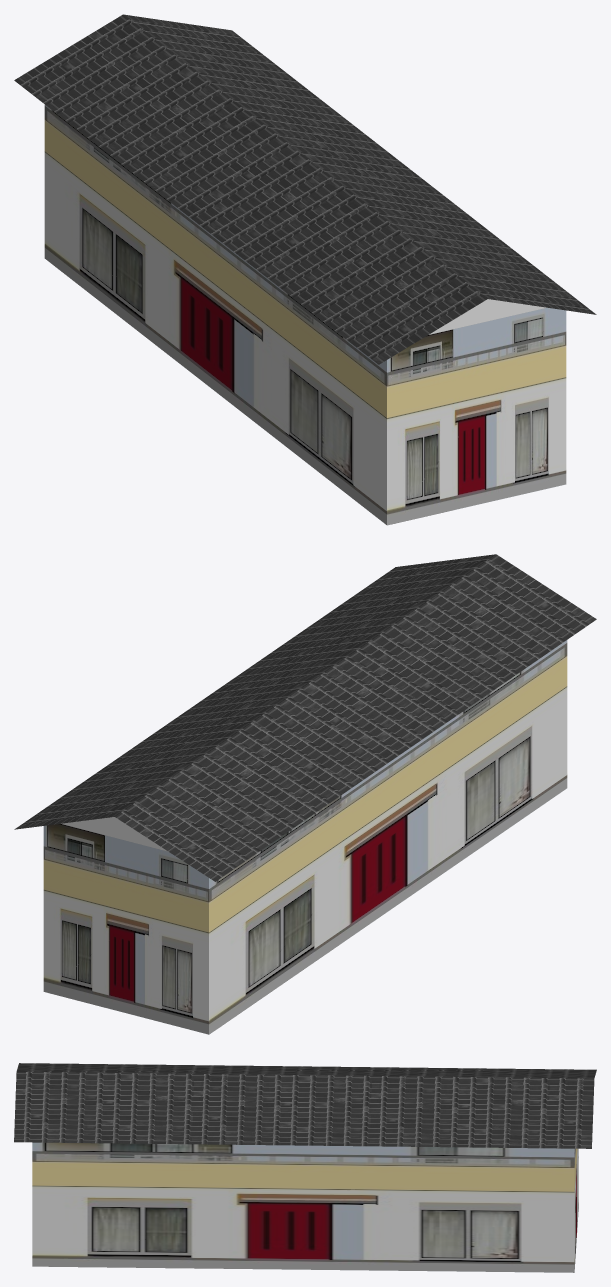
3 views of the same model, one above another, from view 1: azimuth 30°, elevation 25°; view 2: azimuth 150°, elevation 25°; view 3: azimuth 270°, elevation 25° (orthographic). The views are drawn at different scales.
Parts seen in each view (by area): view 1: CityEngineMaterial_15_m, CityEngineMaterial_16_m, CityEngineMaterial_3_m; view 2: CityEngineMaterial_15_m, CityEngineMaterial_16_m, CityEngineMaterial_3_m; view 3: CityEngineMaterial_15_m, CityEngineMaterial_16_m.
Boxes of the visible parts, box(x1,y1,x2,y2) form: CityEngineMaterial_15_m: box(44, 104, 566, 525); CityEngineMaterial_16_m: box(14, 14, 596, 364); CityEngineMaterial_3_m: box(429, 299, 546, 334); CityEngineMaterial_15_m: box(43, 640, 567, 1034); CityEngineMaterial_16_m: box(14, 554, 596, 881); CityEngineMaterial_3_m: box(61, 817, 167, 851); CityEngineMaterial_15_m: box(32, 1142, 578, 1272); CityEngineMaterial_16_m: box(14, 1063, 596, 1148).
Bounding box in the file's own units: 11.41 × 10.06 × 32.78.
